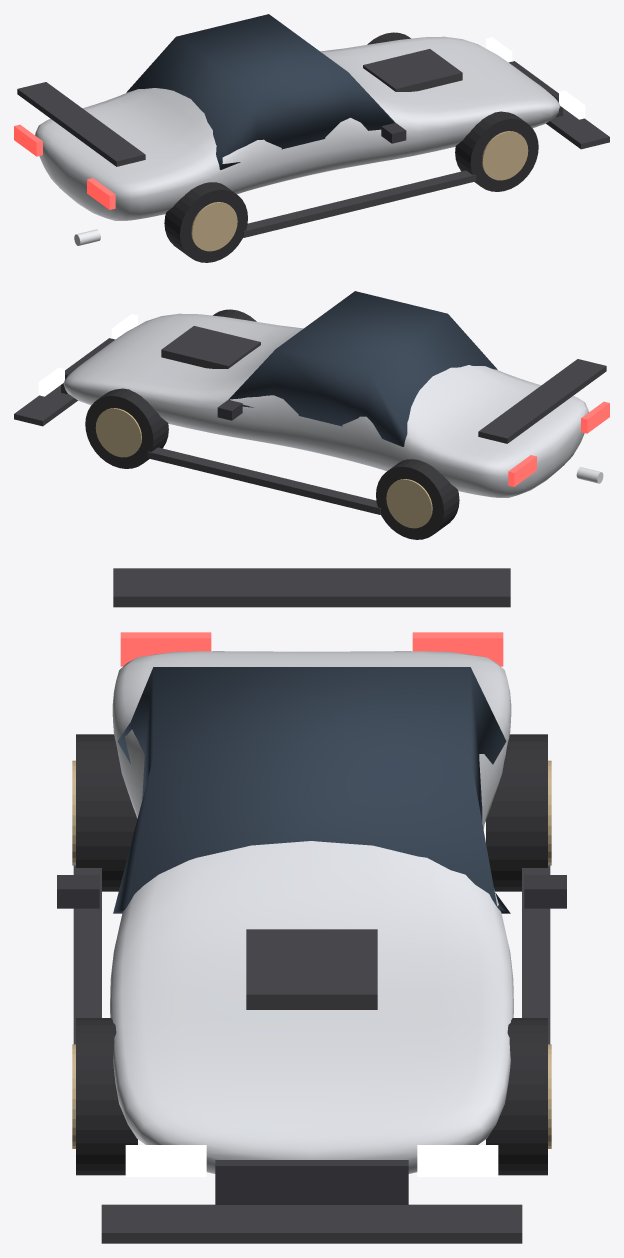
Rendered from car_samuray_r26.glb.
3 renders of one model, top to bottom at view 1: azimuth 30°, elevation 25°; view 2: azimuth 150°, elevation 25°; view 3: azimuth 270°, elevation 25°, orthographic. The views are drawn at different scales.
Visible parts, largest first — view 1: CarBody, CarGlass, Mod_Wing, Tire_-1.4074_-1, Mod_Skirt_-1, Tire_1.4074_-1, Mod_Hood, Rim_-1.4074_-1, Rim_1.4074_-1, Mod_Splitter, TailL_1, TailL_-1 (+4 smaller); view 2: CarBody, CarGlass, Mod_Wing, Tire_-1.4074_1, Mod_Skirt_1, Tire_1.4074_1, Mod_Hood, Rim_-1.4074_1, Rim_1.4074_1, Mod_Splitter, TailL_-1, TailL_1 (+4 smaller); view 3: CarBody, CarGlass, Mod_Splitter, Mod_Wing, Mod_Hood, Grille, Tire_-1.4074_1, Tire_-1.4074_-1, Tire_1.4074_1, Tire_1.4074_-1, Mod_Skirt_1, Mod_Skirt_-1 (+6 smaller).
Boxes of the visible parts, x1,y1,x2,y2 form: CarBody: [35, 36, 560, 220]; CarGlass: [126, 14, 395, 169]; Mod_Wing: [17, 82, 145, 166]; Tire_-1.4074_-1: [164, 182, 247, 262]; Mod_Skirt_-1: [243, 170, 476, 237]; Tire_1.4074_-1: [455, 111, 538, 191]; Mod_Hood: [363, 49, 462, 91]; Rim_-1.4074_-1: [191, 202, 237, 251]; Rim_1.4074_-1: [482, 131, 528, 180]; Mod_Splitter: [546, 108, 609, 149]; TailL_1: [14, 124, 42, 156]; TailL_-1: [87, 178, 115, 209]; CarBody: [63, 313, 588, 497]; CarGlass: [228, 291, 497, 446]; Mod_Wing: [478, 359, 606, 443]; Tire_-1.4074_1: [376, 459, 459, 539]; Mod_Skirt_1: [147, 447, 380, 514]; Tire_1.4074_1: [85, 388, 168, 468]; Mod_Hood: [161, 326, 260, 368]; Rim_-1.4074_1: [386, 479, 432, 528]; Rim_1.4074_1: [95, 408, 141, 457]; Mod_Splitter: [14, 385, 77, 426]; TailL_-1: [581, 401, 609, 433]; TailL_1: [508, 455, 536, 486]; CarBody: [110, 651, 513, 1173]; CarGlass: [113, 667, 510, 913]; Mod_Splitter: [101, 1204, 522, 1243]; Mod_Wing: [113, 568, 510, 607]; Mod_Hood: [246, 929, 377, 1009]; Grille: [215, 1160, 408, 1204]; Tire_-1.4074_1: [486, 734, 547, 891]; Tire_-1.4074_-1: [76, 734, 137, 891]; Tire_1.4074_1: [486, 1018, 547, 1175]; Tire_1.4074_-1: [76, 1018, 137, 1175]; Mod_Skirt_1: [522, 865, 550, 1044]; Mod_Skirt_-1: [73, 865, 101, 1044].
Bounding box in the file's own units: 4.91 × 1.28 × 2.14.
